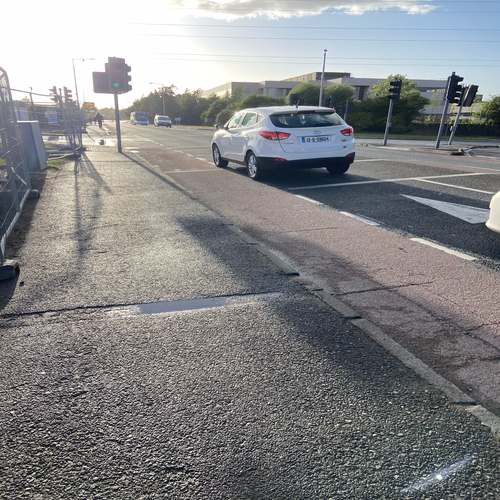Car: (209, 107, 362, 175)
Traffic Light: (101, 57, 136, 94), (445, 71, 464, 108), (385, 77, 407, 106)
